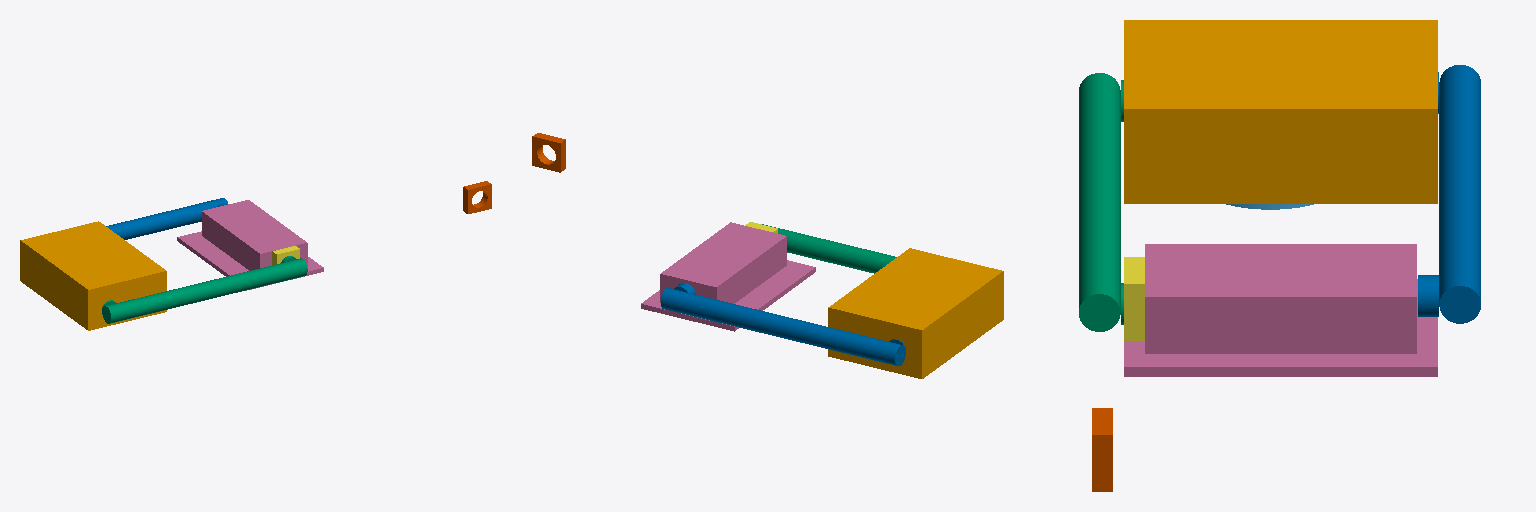
URDF robot description (robot):
<robot name="robot" version="1.0">
  <joint name="mi_diseño-base_giratoria_link_joint" type="continuous">
    <limit effort="0.00000" velocity="0.00000"/>
    <origin rpy="0.00000 0.00000 0.00000" xyz="-0.00023 -0.00708 -0.00924"/>
    <parent link="mi_diseño-cuerpo001_link"/>
    <child link="mi_diseño-base_giratoria_link"/>
    <axis xyz="0.00000 0.00000 1.00000"/>
  </joint>
  <joint name="mi_diseño-pata_d_link_joint" type="continuous">
    <limit effort="0.00000" velocity="0.00000"/>
    <origin rpy="-1.57080 0.00000 0.00000" xyz="-0.02289 -0.07279 -0.00613"/>
    <parent link="mi_diseño-cuerpo001_link"/>
    <child link="mi_diseño-pata_d_link"/>
    <axis xyz="0.00000 0.00000 1.00000"/>
  </joint>
  <joint name="mi_diseño-motor_soporte_d_link_joint" type="continuous">
    <limit effort="0.00000" velocity="0.00000"/>
    <origin rpy="0.00000 0.00000 0.00000" xyz="0.22766 -0.00188 0.00070"/>
    <parent link="mi_diseño-pata_d_link"/>
    <child link="mi_diseño-motor_soporte_d_link"/>
    <axis xyz="0.00000 0.00000 1.00000"/>
  </joint>
  <joint name="mi_diseño-pata_i_link_joint" type="continuous">
    <limit effort="0.00000" velocity="0.00000"/>
    <origin rpy="-1.57080 0.00000 0.00000" xyz="-0.02289 0.06271 -0.00189"/>
    <parent link="mi_diseño-cuerpo001_link"/>
    <child link="mi_diseño-pata_i_link"/>
    <axis xyz="0.00000 0.00000 1.00000"/>
  </joint>
  <joint name="mi_diseño-motor_soporte_i_link_joint" type="continuous">
    <limit effort="0.00000" velocity="0.00000"/>
    <origin rpy="0.00000 0.00000 0.00000" xyz="0.22766 0.00235 0.00520"/>
    <parent link="mi_diseño-pata_i_link"/>
    <child link="mi_diseño-motor_soporte_i_link"/>
    <axis xyz="0.00000 0.00000 1.00000"/>
  </joint>
  <joint name="mi_diseño-Soporte_link_joint" type="fixed">
    <origin rpy="1.57080 0.00000 0.00000" xyz="-0.00121 0.00425 -0.07000"/>
    <parent link="mi_diseño-motor_soporte_i_link"/>
    <child link="mi_diseño-Soporte_link"/>
  </joint>
  <link name="mi_diseño-cuerpo001_link">
    <collision name="mi_diseño-cuerpo001_collision">
      <origin rpy="0.00000 0.00000 0.00000" xyz="0.00000 0.00000 0.00000"/>
      <geometry>
        <mesh filename="../meshes/stl/mi_diseño-cuerpo001.stl" scale="0.00100 0.00100 0.00100"/>
      </geometry>
    </collision>
    <inertial>
      <inertia ixx="0.00092" ixy="-0.00000" ixz="-0.00002" iyy="0.00060" iyz="-0.00000" izz="0.00133"/>
      <origin rpy="0.00000 0.00000 0.00000" xyz="0.00000 0.00000 -0.00000"/>
      <mass value="0.50000"/>
    </inertial>
    <visual name="mi_diseño-cuerpo001">
      <material name="None"/>
      <origin rpy="0.00000 0.00000 0.00000" xyz="0.00000 0.00000 0.00000"/>
      <geometry>
        <mesh filename="../meshes/stl/mi_diseño-cuerpo001.stl" scale="0.00100 0.00100 0.00100"/>
      </geometry>
    </visual>
  </link>
  <link name="mi_diseño-base_giratoria_link">
    <collision name="mi_diseño-base_giratoria_collision">
      <origin rpy="0.00000 0.00000 0.00000" xyz="0.00000 0.00000 0.00000"/>
      <geometry>
        <mesh filename="../meshes/stl/mi_diseño-base_giratoria.stl" scale="0.00100 0.00100 0.00100"/>
      </geometry>
    </collision>
    <inertial>
      <inertia ixx="0.00008" ixy="-0.00000" ixz="-0.00000" iyy="0.00008" iyz="0.00000" izz="0.00010"/>
      <origin rpy="0.00000 0.00000 0.00000" xyz="0.00000 0.00000 0.00000"/>
      <mass value="0.13000"/>
    </inertial>
    <visual name="mi_diseño-base_giratoria">
      <material name="None"/>
      <origin rpy="0.00000 0.00000 0.00000" xyz="0.00000 0.00000 0.00000"/>
      <geometry>
        <mesh filename="../meshes/stl/mi_diseño-base_giratoria.stl" scale="0.00100 0.00100 0.00100"/>
      </geometry>
    </visual>
  </link>
  <link name="mi_diseño-pata_d_link">
    <collision name="mi_diseño-pata_d_collision">
      <origin rpy="1.58290 0.00000 0.00000" xyz="0.11459 0.00007 -0.01468"/>
      <geometry>
        <mesh filename="../meshes/stl/mi_diseño-pata_d.stl" scale="0.00100 0.00100 0.00100"/>
      </geometry>
    </collision>
    <inertial>
      <inertia ixx="0.00001" ixy="0.00000" ixz="-0.00000" iyy="0.00040" iyz="-0.00000" izz="0.00040"/>
      <origin rpy="0.00000 0.00000 0.00000" xyz="0.11459 0.00007 -0.01468"/>
      <mass value="0.06500"/>
    </inertial>
    <visual name="mi_diseño-pata_d">
      <material name="None"/>
      <origin rpy="1.57080 0.00000 0.00000" xyz="0.11459 0.00007 -0.01468"/>
      <geometry>
        <mesh filename="../meshes/stl/mi_diseño-pata_d.stl" scale="0.00100 0.00100 0.00100"/>
      </geometry>
    </visual>
  </link>
  <link name="mi_diseño-motor_soporte_d_link">
    <collision name="mi_diseño-motor_soporte_d_collision">
      <origin rpy="1.57974 0.00000 0.00000" xyz="0.00000 0.00000 -0.00000"/>
      <geometry>
        <mesh filename="../meshes/stl/mi_diseño-motor_soporte_d.stl" scale="0.00100 0.00100 0.00100"/>
      </geometry>
    </collision>
    <inertial>
      <inertia ixx="0.00000" ixy="0.00000" ixz="0.00000" iyy="0.00000" iyz="0.00000" izz="0.00000"/>
      <origin rpy="0.00000 0.00000 0.00000" xyz="0.00000 0.00000 0.00000"/>
      <mass value="0.03200"/>
    </inertial>
    <visual name="mi_diseño-motor_soporte_d">
      <material name="None"/>
      <origin rpy="1.57080 0.00000 0.00000" xyz="0.00000 0.00000 -0.00000"/>
      <geometry>
        <mesh filename="../meshes/stl/mi_diseño-motor_soporte_d.stl" scale="0.00100 0.00100 0.00100"/>
      </geometry>
    </visual>
  </link>
  <link name="mi_diseño-pata_i_link">
    <collision name="mi_diseño-pata_i_collision">
      <origin rpy="1.58457 0.00000 0.00000" xyz="0.11459 0.00000 0.01987"/>
      <geometry>
        <mesh filename="../meshes/stl/mi_diseño-pata_i.stl" scale="0.00100 0.00100 0.00100"/>
      </geometry>
    </collision>
    <inertial>
      <inertia ixx="0.00001" ixy="-0.00000" ixz="0.00000" iyy="0.00040" iyz="-0.00000" izz="0.00040"/>
      <origin rpy="0.00000 0.00000 0.00000" xyz="0.11459 0.00000 0.01987"/>
      <mass value="0.06500"/>
    </inertial>
    <visual name="mi_diseño-pata_i">
      <material name="None"/>
      <origin rpy="1.57080 0.00000 0.00000" xyz="0.11459 0.00000 0.01987"/>
      <geometry>
        <mesh filename="../meshes/stl/mi_diseño-pata_i.stl" scale="0.00100 0.00100 0.00100"/>
      </geometry>
    </visual>
  </link>
  <link name="mi_diseño-motor_soporte_i_link">
    <collision name="mi_diseño-motor_soporte_i_collision">
      <origin rpy="1.58280 0.00000 0.00000" xyz="0.00000 -0.00000 0.00000"/>
      <geometry>
        <mesh filename="../meshes/stl/mi_diseño-motor_soporte_i.stl" scale="0.00100 0.00100 0.00100"/>
      </geometry>
    </collision>
    <inertial>
      <inertia ixx="0.00000" ixy="0.00000" ixz="0.00000" iyy="0.00000" iyz="0.00000" izz="0.00000"/>
      <origin rpy="0.00000 0.00000 0.00000" xyz="0.00000 0.00000 0.00000"/>
      <mass value="0.03200"/>
    </inertial>
    <visual name="mi_diseño-motor_soporte_i">
      <material name="None"/>
      <origin rpy="1.57080 0.00000 0.00000" xyz="0.00000 0.00000 0.00000"/>
      <geometry>
        <mesh filename="../meshes/stl/mi_diseño-motor_soporte_i.stl" scale="0.00100 0.00100 0.00100"/>
      </geometry>
    </visual>
  </link>
  <link name="mi_diseño-Soporte_link">
    <collision name="mi_diseño-Soporte_collision">
      <origin rpy="0.00000 0.00000 0.00000" xyz="0.00000 0.00000 -0.00000"/>
      <geometry>
        <mesh filename="../meshes/stl/mi_diseño-Soporte.stl" scale="0.00100 0.00100 0.00100"/>
      </geometry>
    </collision>
    <inertial>
      <inertia ixx="0.00033" ixy="-0.00000" ixz="-0.00000" iyy="0.00012" iyz="0.00000" izz="0.00040"/>
      <origin rpy="0.00000 0.00000 0.00000" xyz="0.00000 0.00000 -0.00000"/>
      <mass value="0.20000"/>
    </inertial>
    <visual name="mi_diseño-Soporte">
      <material name="None"/>
      <origin rpy="0.00000 0.00000 0.00000" xyz="0.00000 0.00000 -0.00000"/>
      <geometry>
        <mesh filename="../meshes/stl/mi_diseño-Soporte.stl" scale="0.00100 0.00100 0.00100"/>
      </geometry>
    </visual>
  </link>
</robot>

--- Facts derived from the render (not from the file) ---
3 views of the same robot in one strip: view 1: azimuth 30°, elevation 25°; view 2: azimuth 150°, elevation 25°; view 3: azimuth 270°, elevation 25° (orthographic).
Model robot with 7 links and 6 joints (5 continuous, 1 fixed), rooted at mi_diseño-cuerpo001_link, posed every joint at zero.
Links seen in each view (by area): view 1: mi_diseño-cuerpo001_link, mi_diseño-Soporte_link, mi_diseño-pata_d_link, mi_diseño-pata_i_link, mi_diseño-motor_soporte_i_link; view 2: mi_diseño-cuerpo001_link, mi_diseño-Soporte_link, mi_diseño-pata_i_link, mi_diseño-pata_d_link, mi_diseño-motor_soporte_i_link; view 3: mi_diseño-cuerpo001_link, mi_diseño-Soporte_link, mi_diseño-pata_i_link, mi_diseño-pata_d_link, mi_diseño-motor_soporte_d_link, mi_diseño-motor_soporte_i_link.
Boxes of the visible links, x1,y1,x2,y2 form: mi_diseño-cuerpo001_link: (20,221,166,330); mi_diseño-Soporte_link: (177,200,323,290); mi_diseño-pata_d_link: (102,256,307,323); mi_diseño-pata_i_link: (106,198,227,239); mi_diseño-motor_soporte_i_link: (463,181,491,213); mi_diseño-cuerpo001_link: (828,248,1003,378); mi_diseño-Soporte_link: (641,222,815,331); mi_diseño-pata_i_link: (661,283,905,365); mi_diseño-pata_d_link: (762,224,896,273); mi_diseño-motor_soporte_i_link: (532,133,565,172); mi_diseño-cuerpo001_link: (1124,20,1437,203); mi_diseño-Soporte_link: (1124,244,1437,376); mi_diseño-pata_i_link: (1418,65,1480,323); mi_diseño-pata_d_link: (1079,73,1123,331); mi_diseño-motor_soporte_d_link: (1124,257,1144,340); mi_diseño-motor_soporte_i_link: (1092,408,1112,491).
Bounding box of the posed robot: 0.505 × 0.1923 × 0.075 m (x, y, z).
7 mesh visuals loaded from 7 distinct referenced files (7 binary STL).
